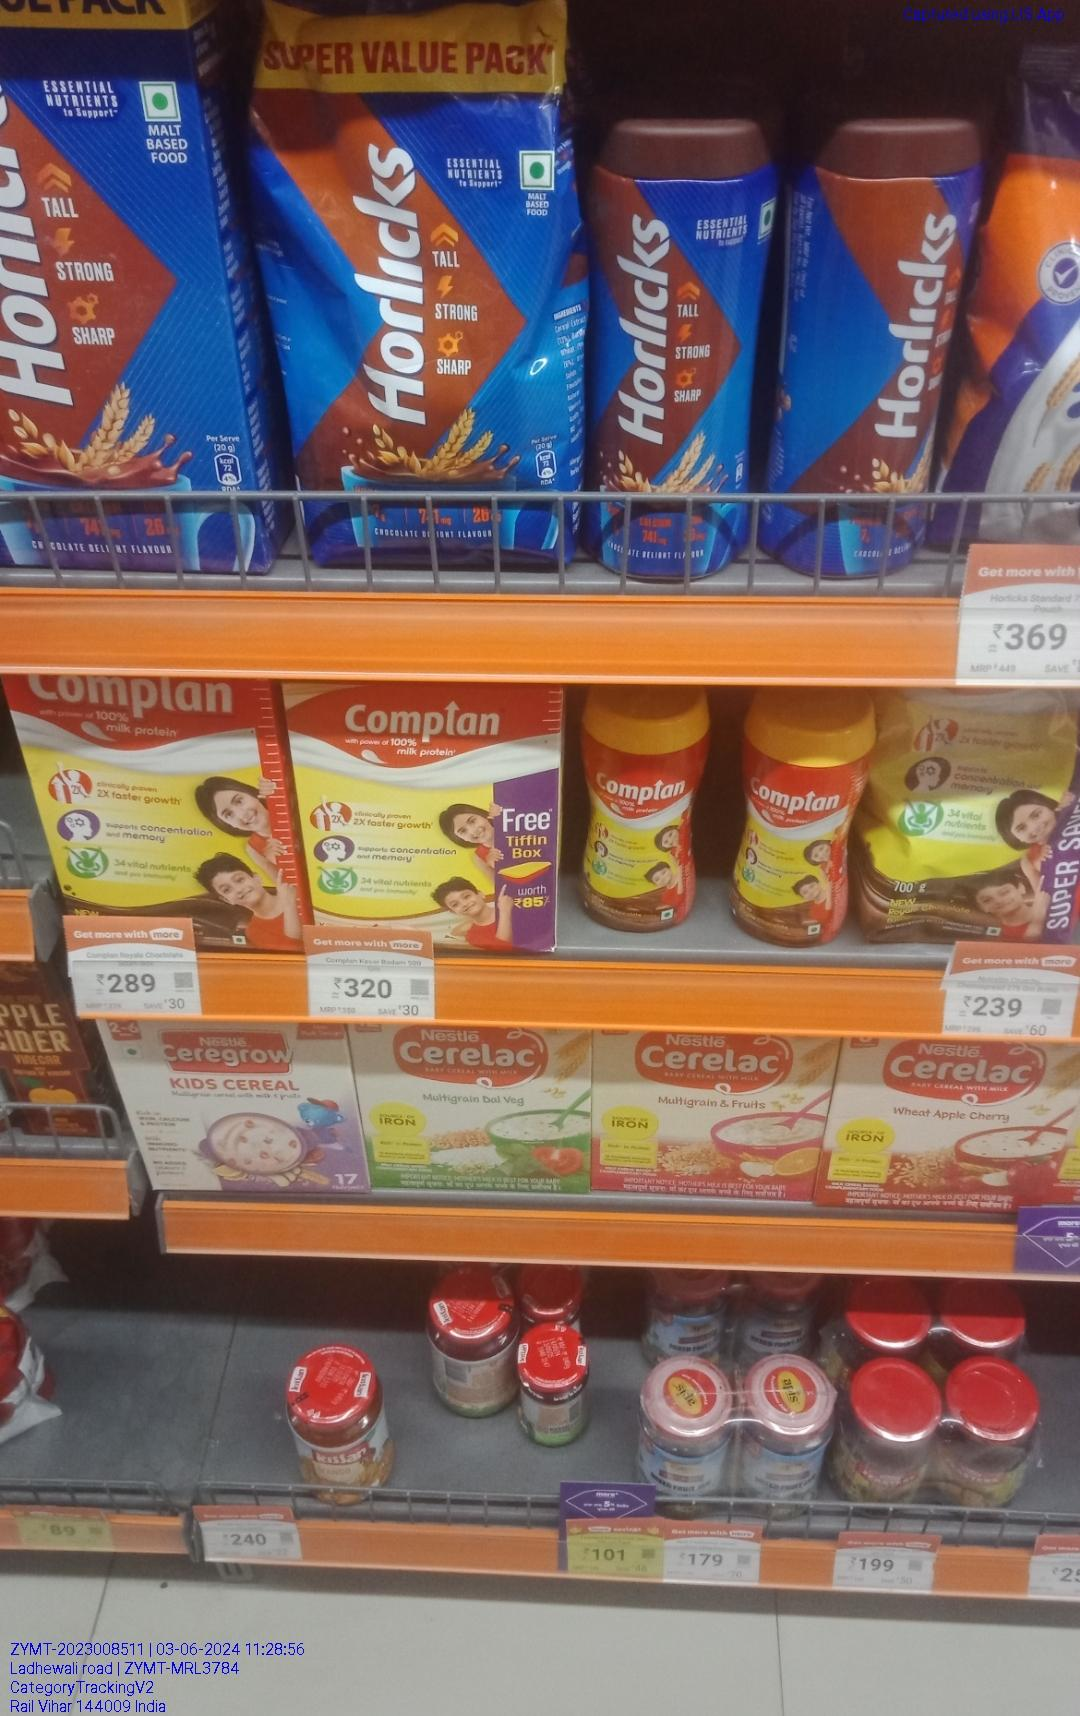COMPLAN_CHOCOLATE_200_GMS_JAR: (575, 669, 707, 927), (733, 697, 864, 947)
